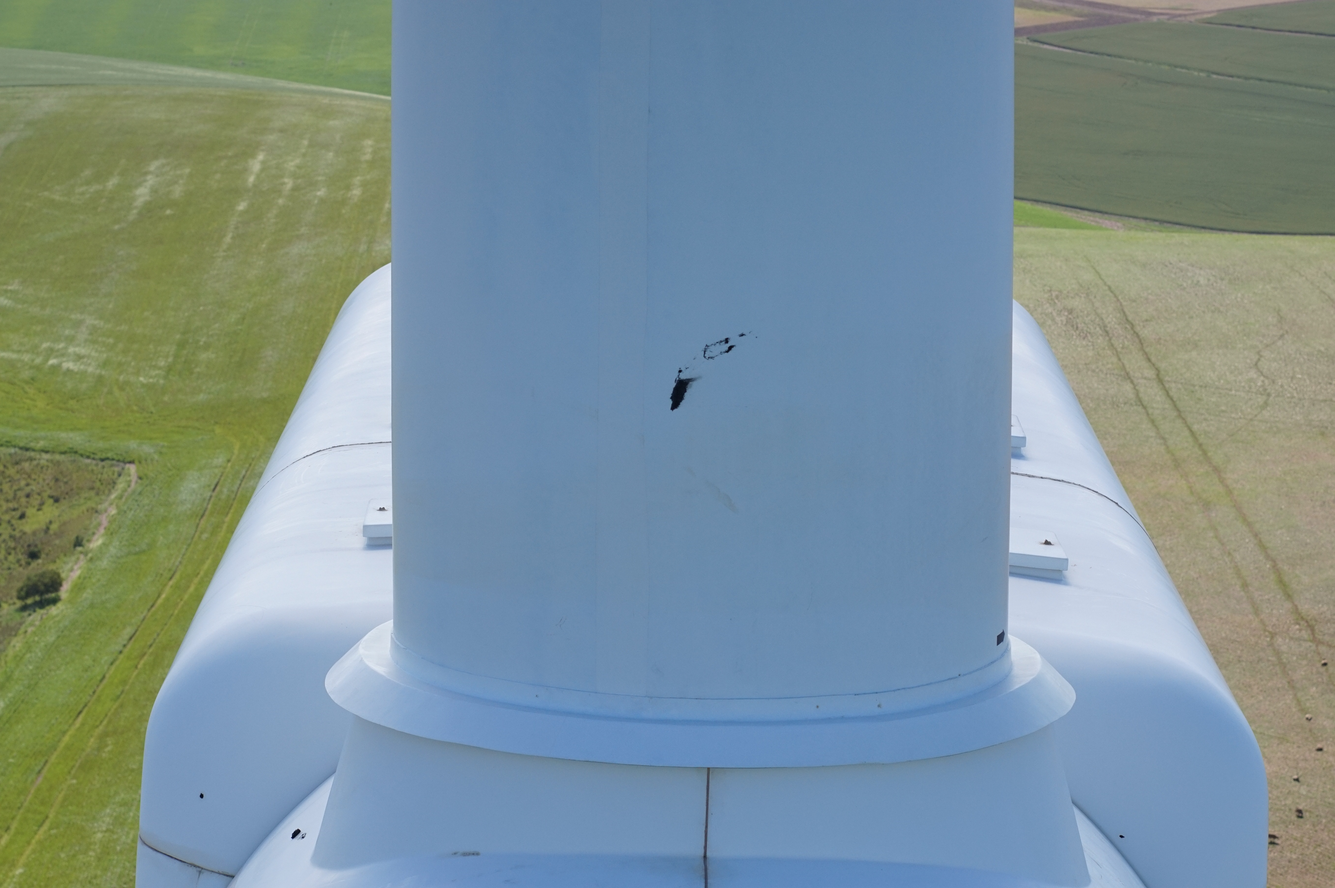Dirt: (669, 375, 701, 412)
